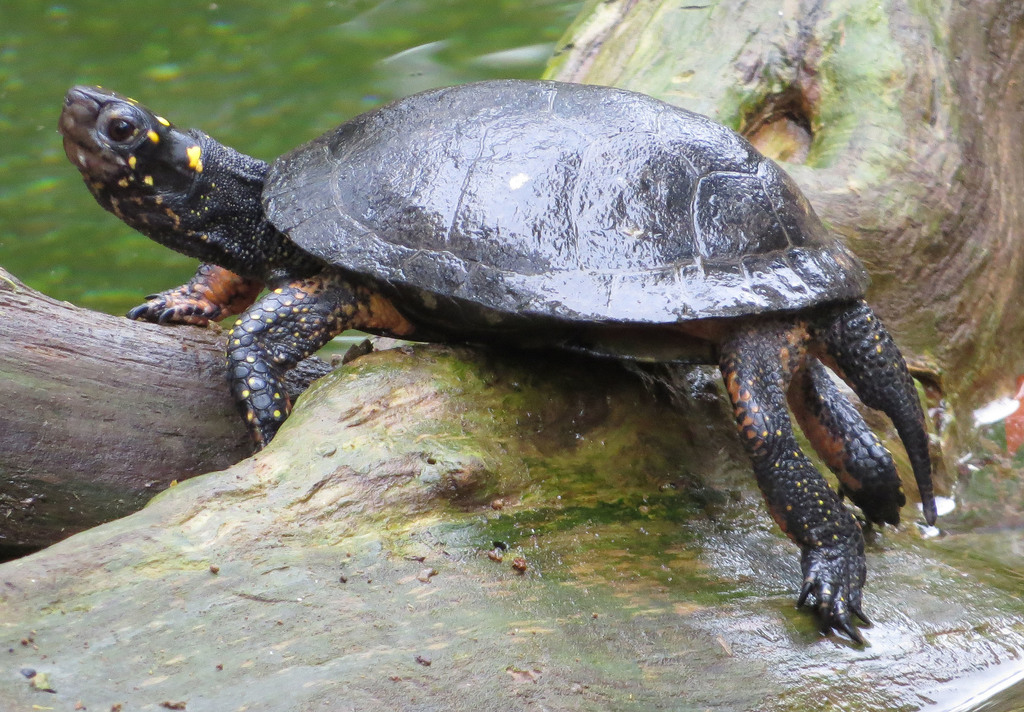Sea turtles: (55, 74, 931, 648)
